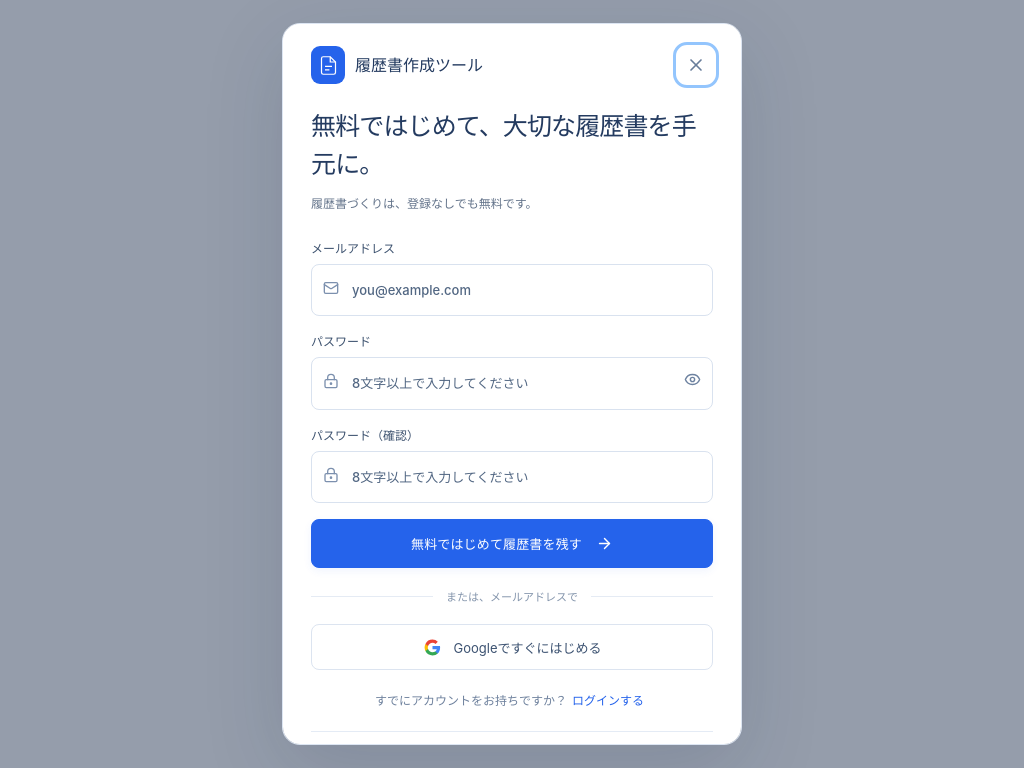
Scenario: optional account authentication › does not transmit mismatched passwords
Type "new@example.test" into the field labelled "メールアドレス" at (512, 290), box [311, 264, 713, 316]
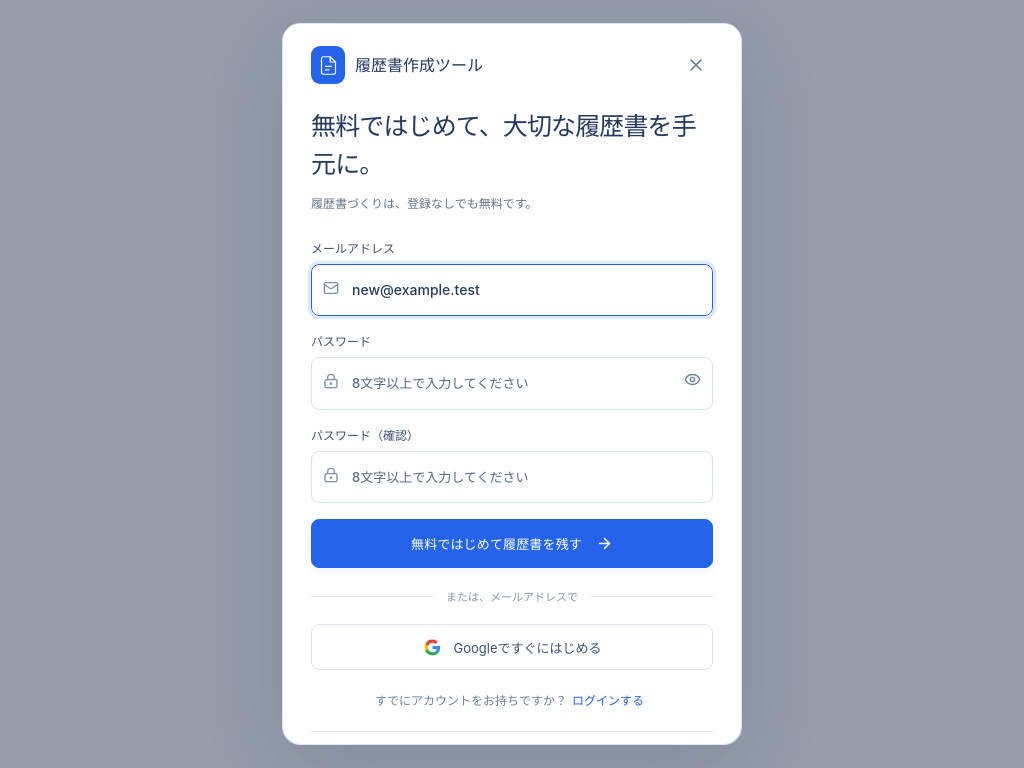
Type "test-password-123" into the password field labelled "パスワード" at (512, 384), box [311, 357, 713, 410]
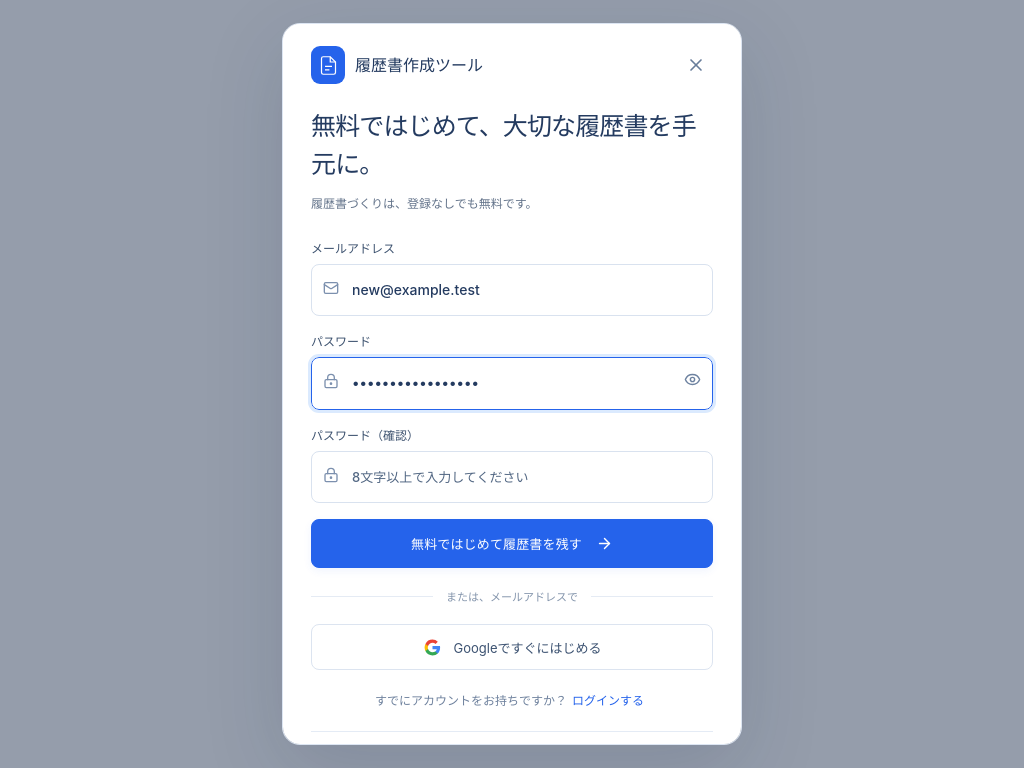
Type "different-password" into the password field labelled "パスワード（確認）" at (512, 477), box [311, 451, 713, 503]
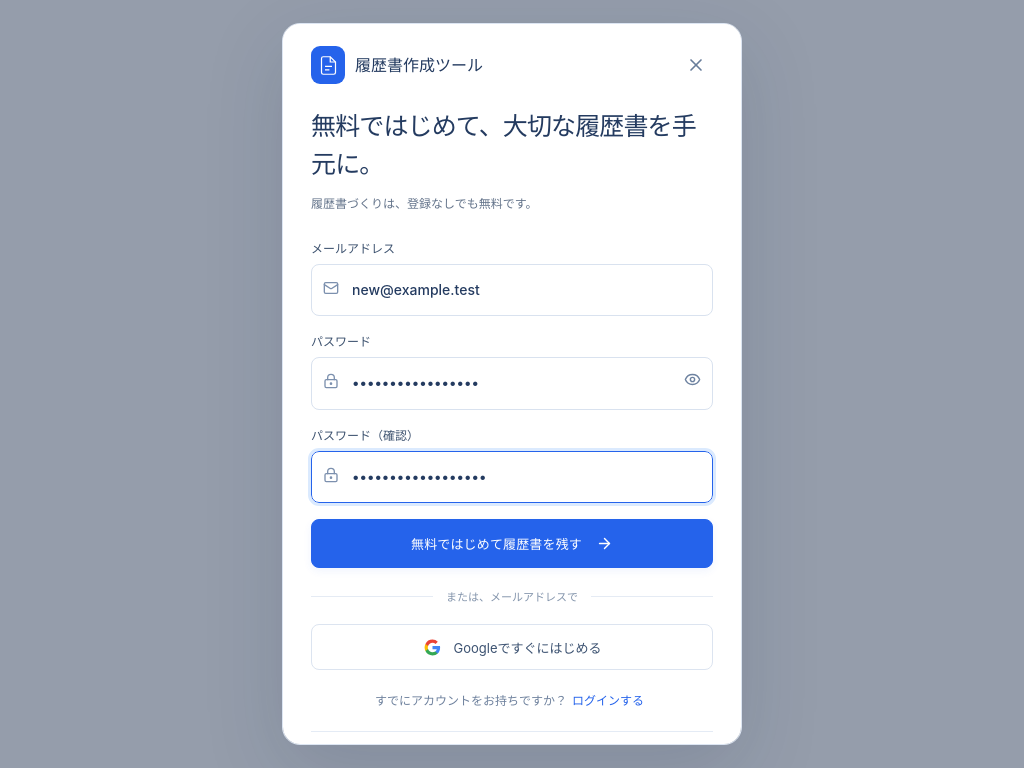
Click the button "無料ではじめて履歴書を残す" at (512, 544), box [311, 519, 713, 568]
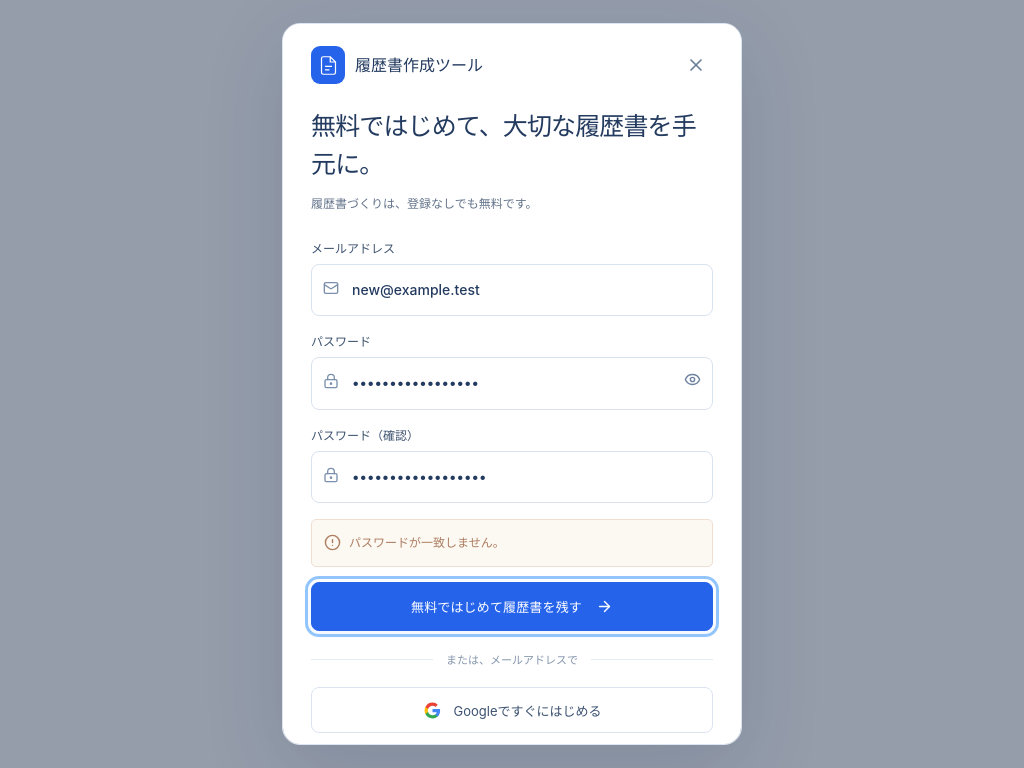
Now the message reads "パスワードが一致しません。", box [349, 535, 505, 550]
